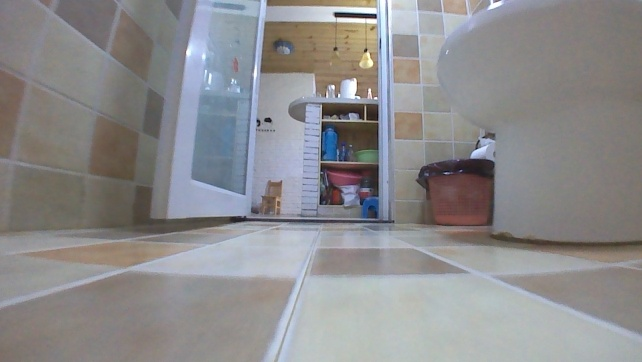door_anno: (142, 0, 269, 227)
toilet: (430, 0, 641, 250)
